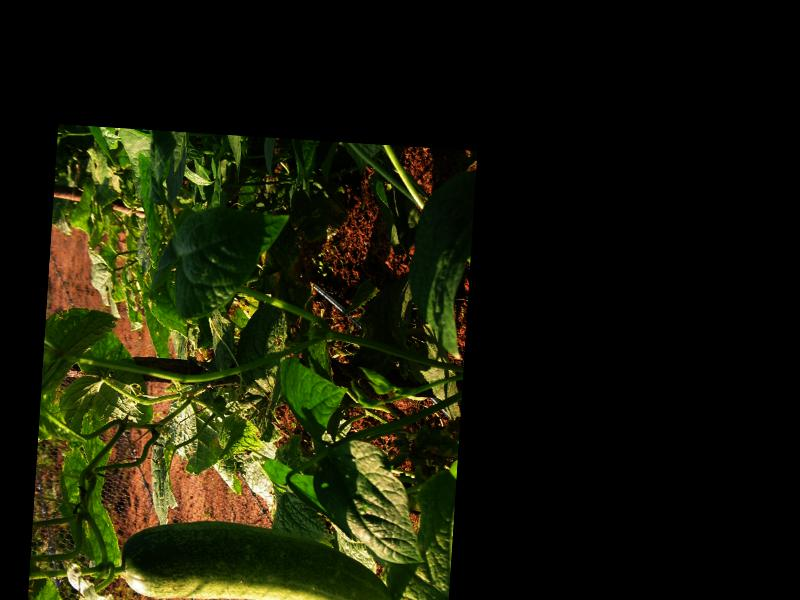Cucumber: (119, 516, 396, 600)
